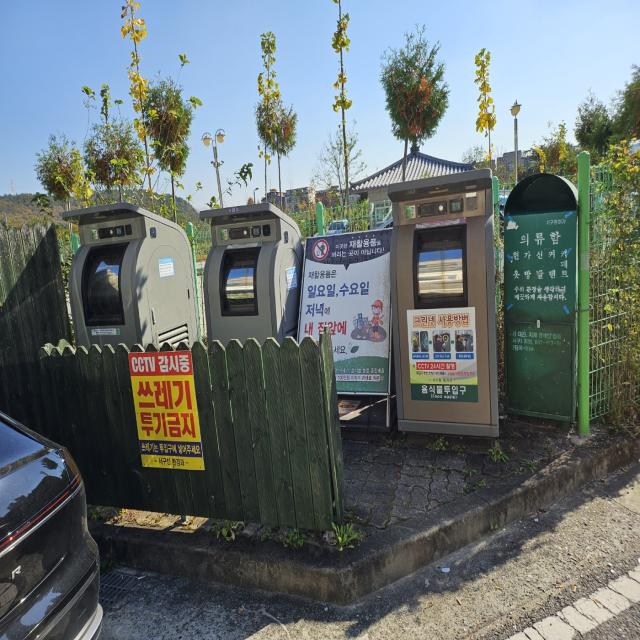CleanNet: (380, 170, 508, 453), (59, 195, 196, 380), (197, 202, 308, 366)
